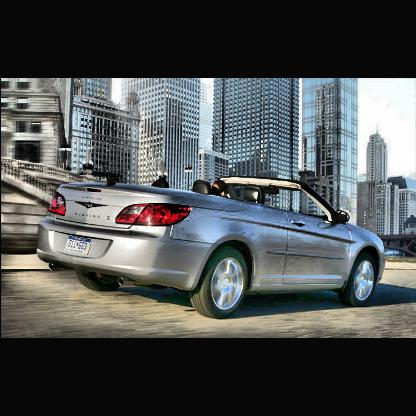Chrysler Sebring Convertible 2010: (32, 160, 389, 320)
